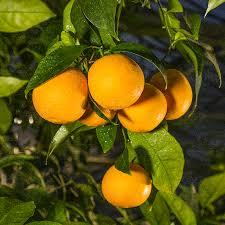orange: (22, 69, 87, 133), (78, 39, 141, 105), (93, 162, 159, 212), (112, 80, 171, 132), (143, 60, 204, 110)
